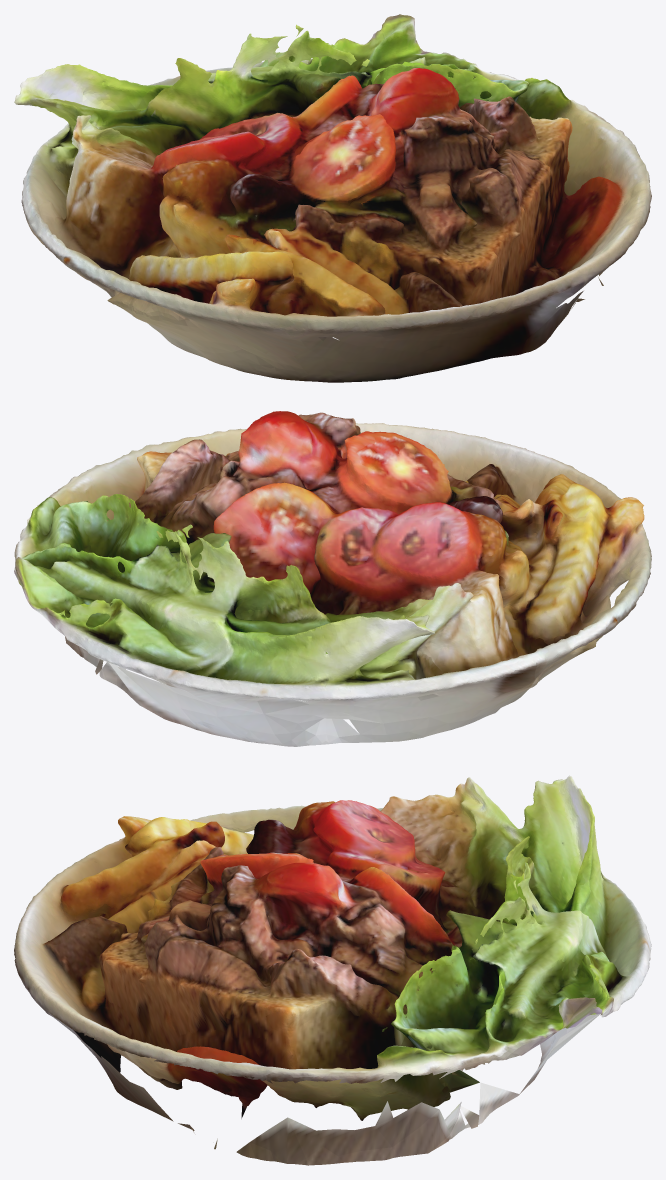
The model's file is steak_sandwich_scaniverse_lidar.glb.
3 views of the same model, one above another, from view 1: azimuth 30°, elevation 25°; view 2: azimuth 150°, elevation 25°; view 3: azimuth 270°, elevation 25° (orthographic).
Parts seen in each view (by area): view 1: mesh_main_0; view 2: mesh_main_0; view 3: mesh_main_0.
Boxes of the visible parts, x1=… form: mesh_main_0: x1=14, y1=14, x2=651, y2=382; mesh_main_0: x1=14, y1=411, x2=651, y2=746; mesh_main_0: x1=14, y1=775, x2=651, y2=1165.
Size of the model in its own units: 0.2312 by 0.086 by 0.2305.
1 material, 1 textured.
